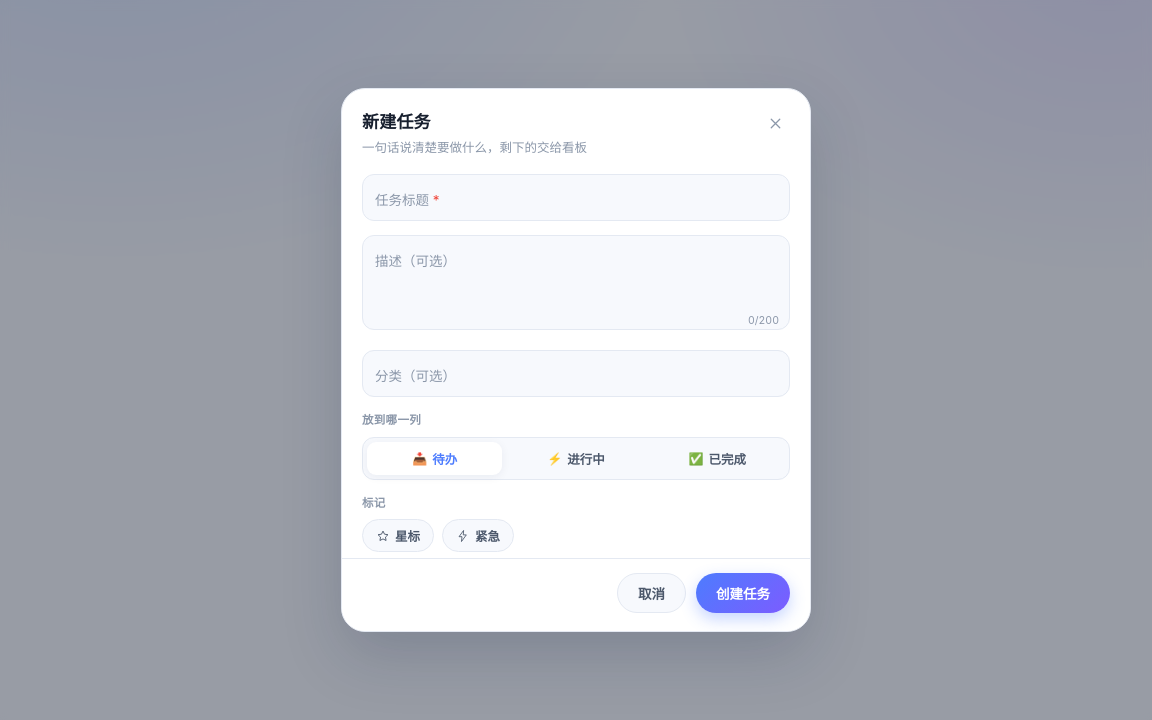
AddTaskModal › 标题为空时阻止提交并提示错误
Click the button "创建任务": (743, 593) [696,573,790,613]
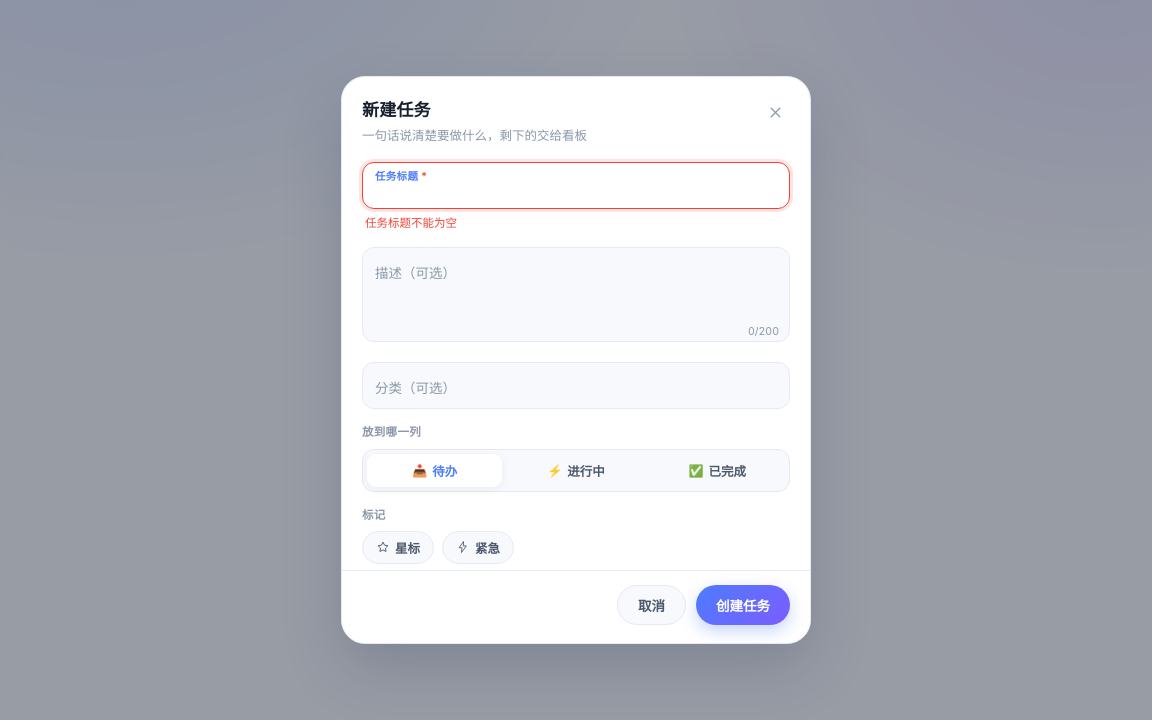
Now the text with class "error-text" shows "标题", box [365,216,457,230]
